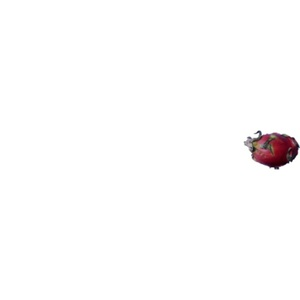pitaia: (247, 131, 300, 170)
